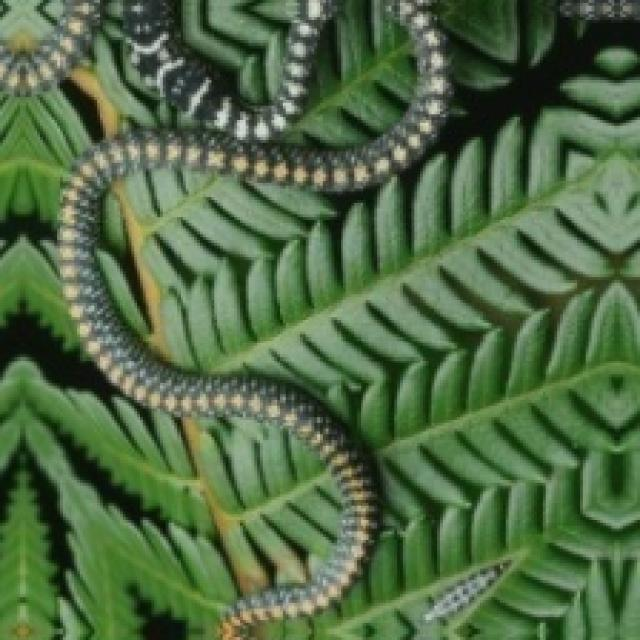paradise tree snake: (57, 0, 446, 637)
